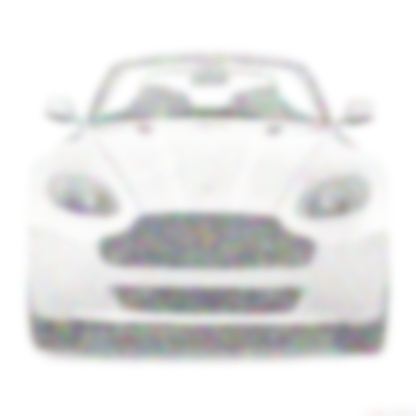Vehicle: (16, 58, 396, 360)
